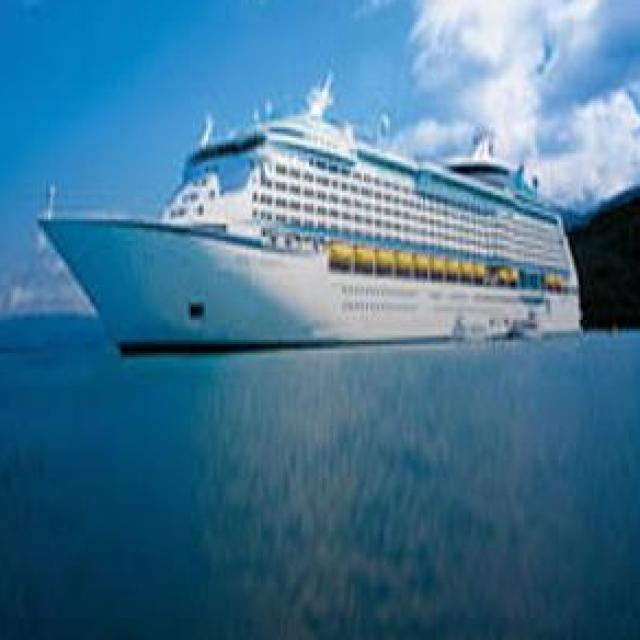passenger ship: (38, 93, 589, 356)
